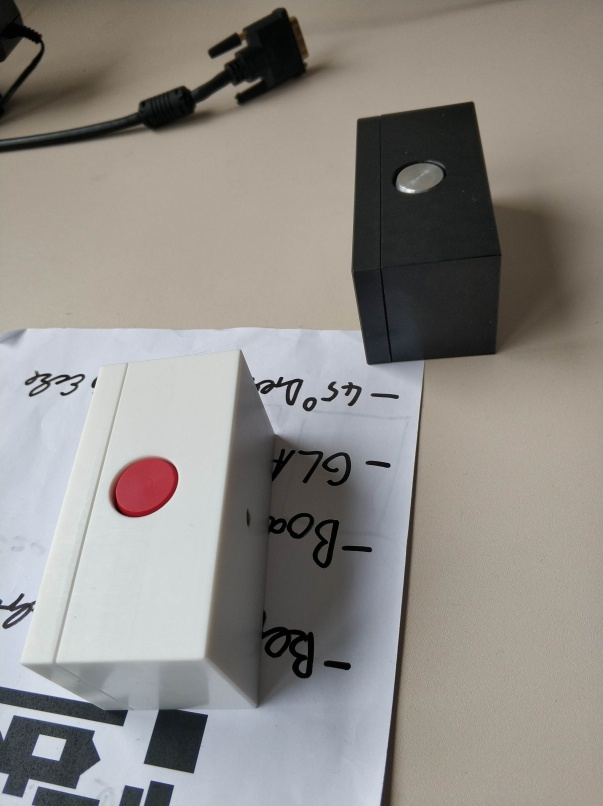black+black+silver: (345, 97, 505, 365)
white+white+red: (17, 345, 278, 713)
